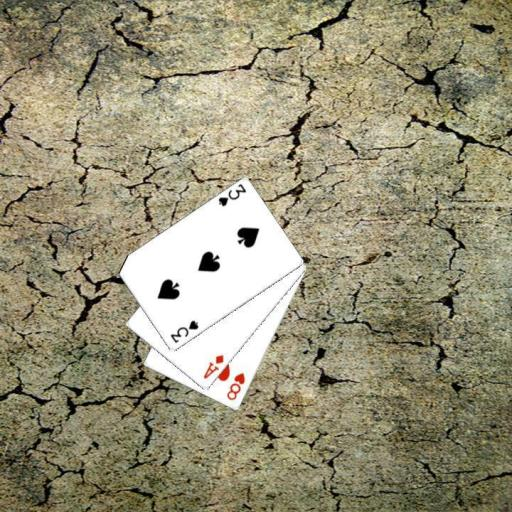card-corner: (167, 317, 200, 345), (215, 181, 247, 208), (224, 370, 247, 402), (200, 352, 225, 380)
